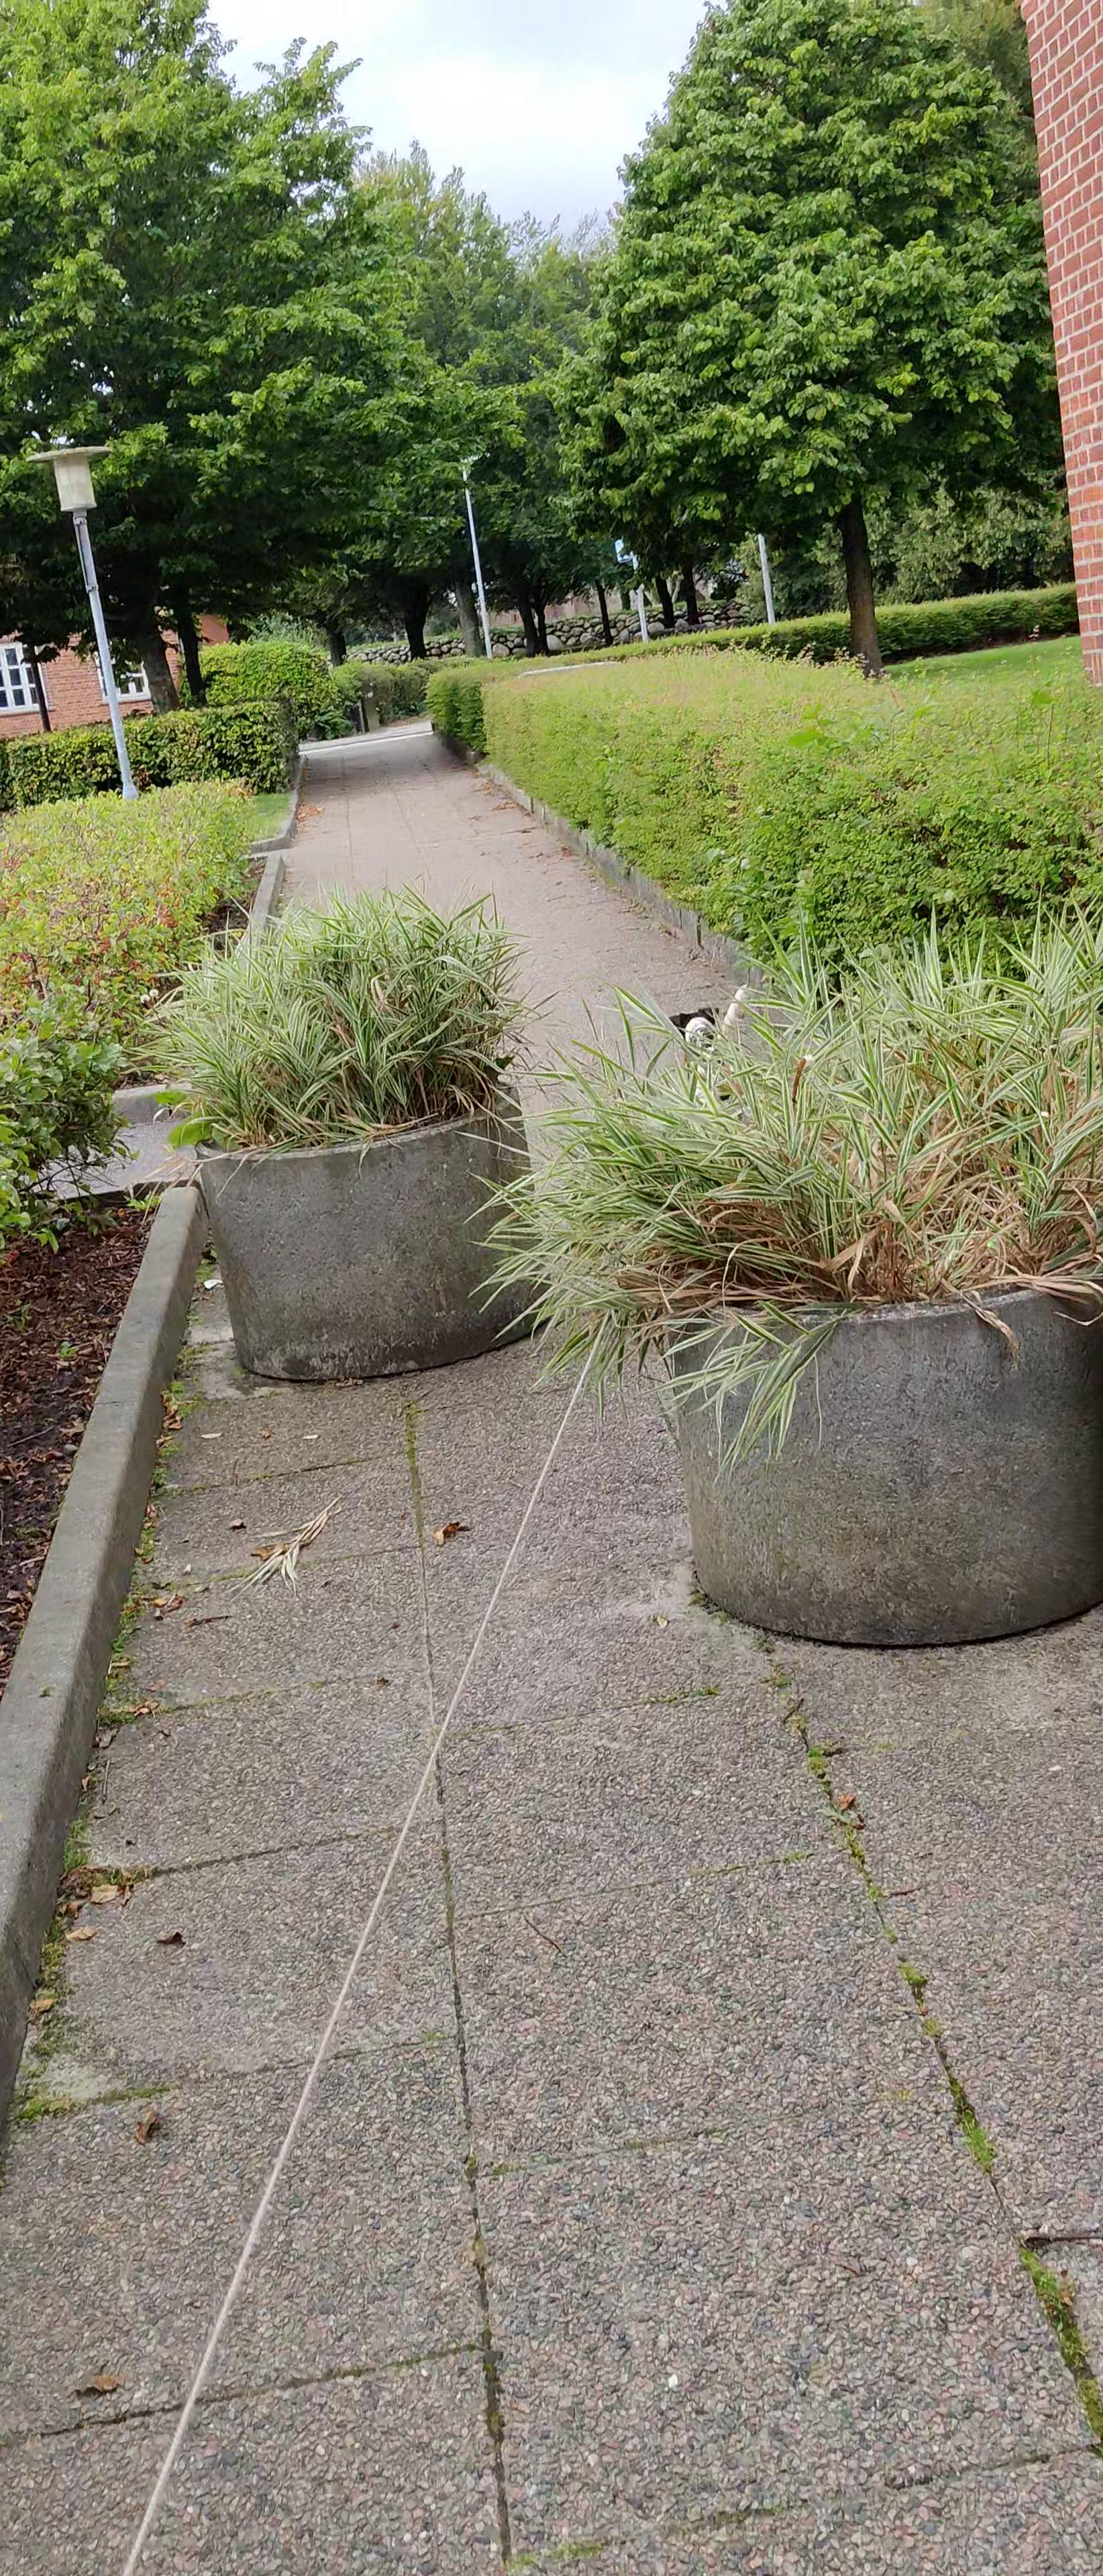Dog: (667, 977, 759, 1112)
